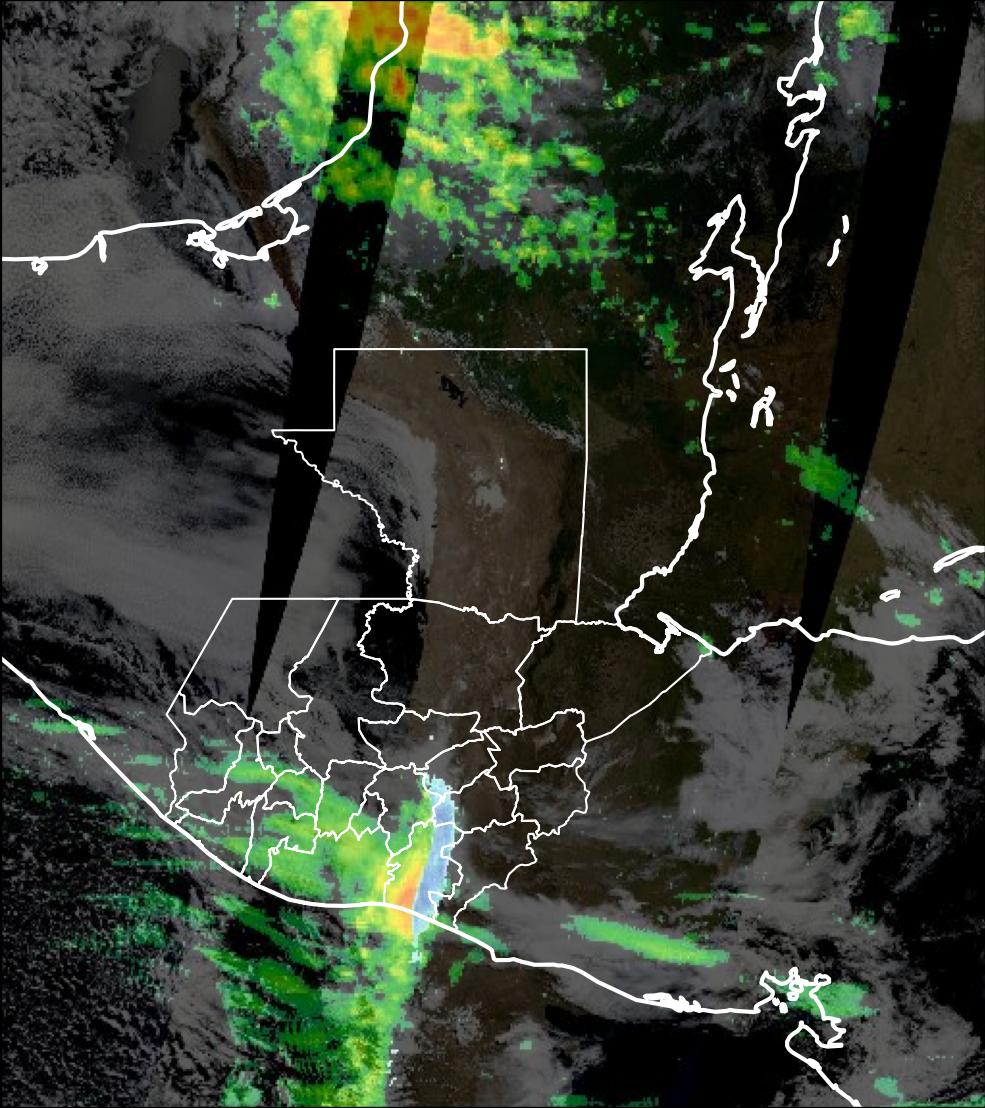precipitacion: (337, 1, 516, 69)
